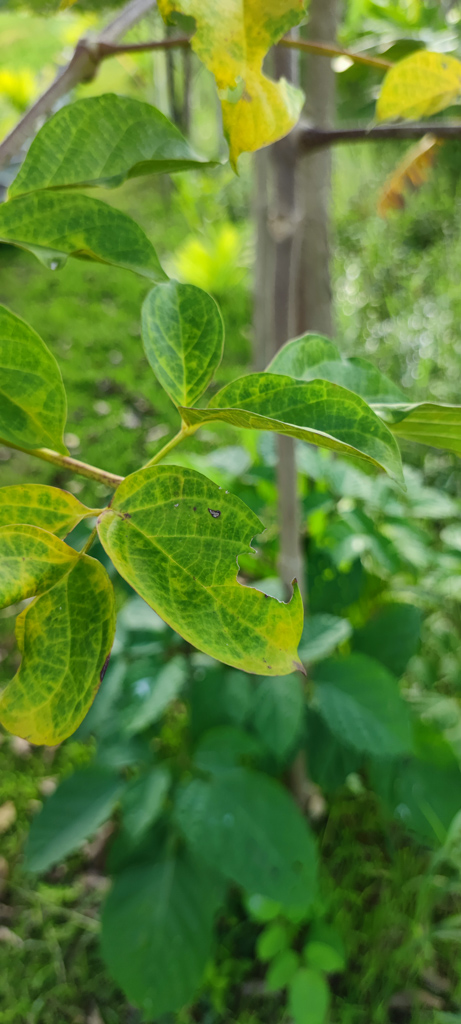Pepper yellow leaf: (4, 483, 107, 758), (152, 9, 321, 170), (195, 578, 342, 696), (368, 35, 456, 143)
